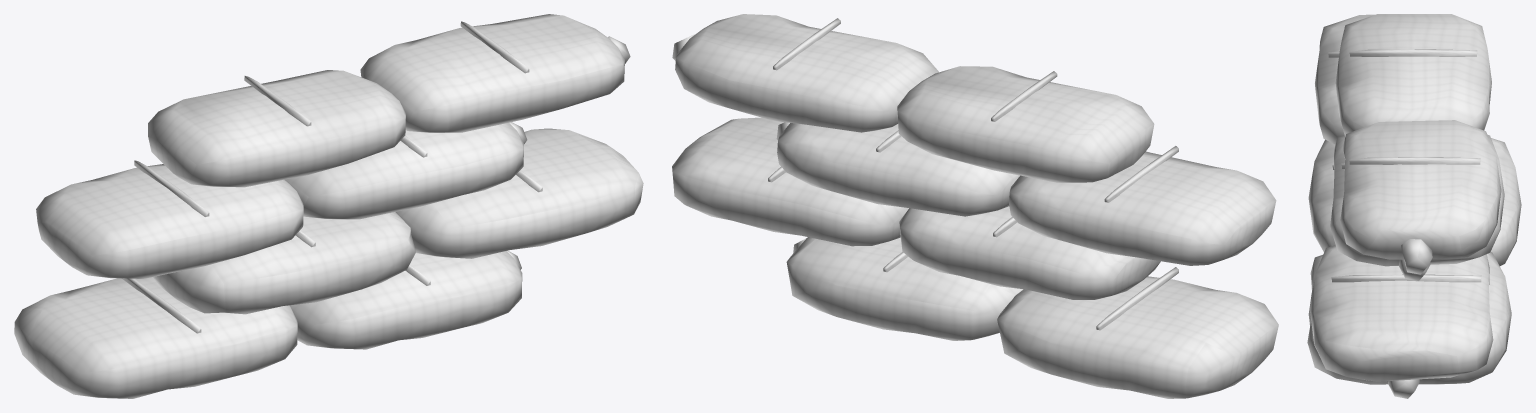
The model's file is sandbags_2.obj.
The picture shows the model from 3 angles, left to right: view 1: azimuth 30°, elevation 25°; view 2: azimuth 150°, elevation 25°; view 3: azimuth 270°, elevation 25°; orthographic projection. The views are drawn at different scales.
Parts seen in each view (by area): view 1: sandbags_2_component_01_stage_1, sandbags_2_component_19_stage_1, sandbags_2_component_13_stage_1, sandbags_2_component_22_stage_1, sandbags_2_component_10_stage_1, sandbags_2_component_07_stage_1, sandbags_2_component_04_stage_1, sandbags_2_component_16_stage_1, sandbags_2_component_03_stage_1, sandbags_2_component_15_stage_1, sandbags_2_component_24_stage_1, sandbags_2_component_21_stage_1; view 2: sandbags_2_component_01_stage_1, sandbags_2_component_19_stage_1, sandbags_2_component_22_stage_1, sandbags_2_component_13_stage_1, sandbags_2_component_10_stage_1, sandbags_2_component_04_stage_1, sandbags_2_component_07_stage_1, sandbags_2_component_16_stage_1, sandbags_2_component_03_stage_1, sandbags_2_component_15_stage_1, sandbags_2_component_24_stage_1, sandbags_2_component_21_stage_1; view 3: sandbags_2_component_10_stage_1, sandbags_2_component_22_stage_1, sandbags_2_component_19_stage_1, sandbags_2_component_04_stage_1, sandbags_2_component_13_stage_1, sandbags_2_component_16_stage_1, sandbags_2_component_07_stage_1, sandbags_2_component_01_stage_1, sandbags_2_component_24_stage_1, sandbags_2_component_12_stage_1, sandbags_2_component_21_stage_1, sandbags_2_component_23_stage_1 (+2 smaller).
Boxes of the visible parts, x1,y1,x2,y2 form: sandbags_2_component_01_stage_1: (14, 277, 297, 398); sandbags_2_component_19_stage_1: (148, 70, 405, 187); sandbags_2_component_13_stage_1: (36, 164, 303, 278); sandbags_2_component_22_stage_1: (360, 14, 624, 132); sandbags_2_component_10_stage_1: (395, 128, 643, 258); sandbags_2_component_07_stage_1: (152, 212, 415, 314); sandbags_2_component_04_stage_1: (289, 251, 522, 349); sandbags_2_component_16_stage_1: (284, 122, 523, 219); sandbags_2_component_03_stage_1: (122, 278, 201, 333); sandbags_2_component_15_stage_1: (134, 160, 209, 216); sandbags_2_component_24_stage_1: (460, 21, 529, 73); sandbags_2_component_21_stage_1: (244, 76, 311, 126); sandbags_2_component_01_stage_1: (997, 276, 1278, 398); sandbags_2_component_19_stage_1: (897, 66, 1154, 182); sandbags_2_component_22_stage_1: (675, 14, 938, 132); sandbags_2_component_13_stage_1: (1009, 151, 1276, 265); sandbags_2_component_10_stage_1: (672, 117, 908, 246); sandbags_2_component_04_stage_1: (786, 237, 1023, 340); sandbags_2_component_07_stage_1: (899, 206, 1160, 299); sandbags_2_component_16_stage_1: (777, 123, 1019, 216); sandbags_2_component_03_stage_1: (1096, 267, 1178, 330); sandbags_2_component_15_stage_1: (1104, 146, 1178, 202); sandbags_2_component_24_stage_1: (773, 18, 840, 70); sandbags_2_component_21_stage_1: (991, 71, 1057, 121); sandbags_2_component_10_stage_1: (1309, 245, 1493, 381); sandbags_2_component_22_stage_1: (1340, 120, 1501, 259); sandbags_2_component_19_stage_1: (1335, 14, 1491, 136); sandbags_2_component_04_stage_1: (1307, 252, 1511, 384); sandbags_2_component_13_stage_1: (1315, 14, 1374, 144); sandbags_2_component_16_stage_1: (1330, 135, 1504, 266); sandbags_2_component_07_stage_1: (1308, 139, 1335, 252); sandbags_2_component_01_stage_1: (1490, 138, 1521, 265); sandbags_2_component_24_stage_1: (1349, 157, 1480, 164); sandbags_2_component_12_stage_1: (1331, 274, 1481, 282); sandbags_2_component_21_stage_1: (1349, 49, 1477, 56); sandbags_2_component_23_stage_1: (1401, 239, 1432, 274).
Bounding box in the file's own units: 1.32 × 0.5232 × 0.4134.
